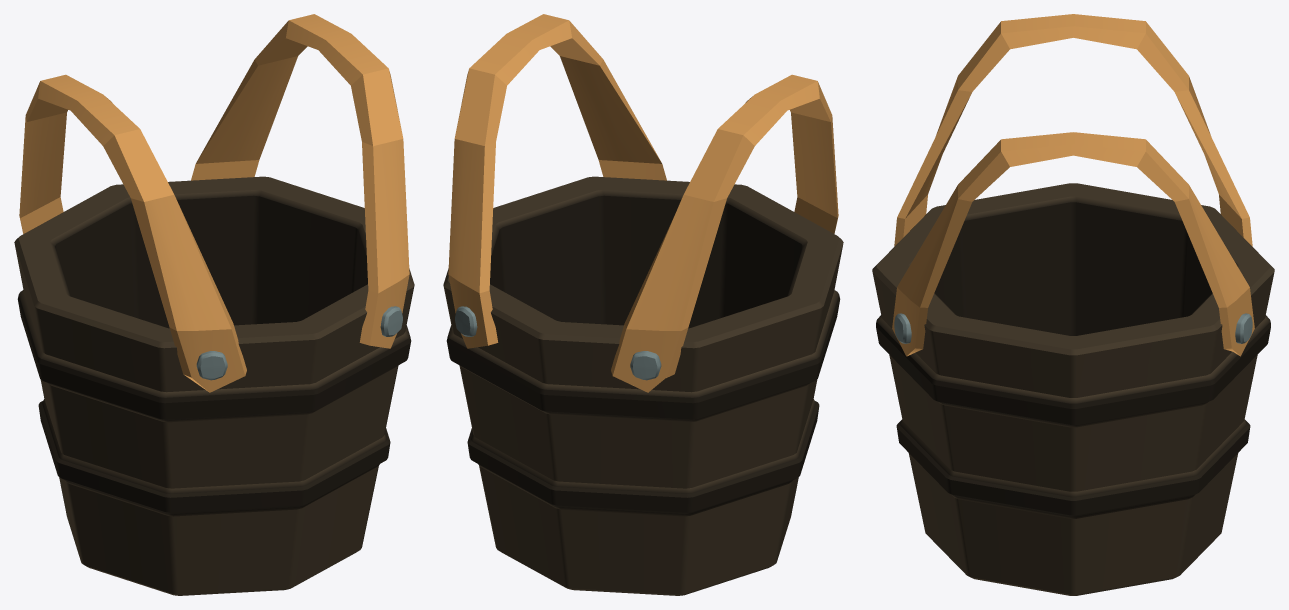
File: bucket.fbx
3 views of the same model, side by side, from view 1: azimuth 30°, elevation 25°; view 2: azimuth 150°, elevation 25°; view 3: azimuth 270°, elevation 25° (orthographic). The views are drawn at different scales.
Parts seen in each view (by area): view 1: bucket_geo; view 2: bucket_geo; view 3: bucket_geo.
Boxes of the visible parts, x1,y1,x2,y2 form: bucket_geo: (14,14,414,595); bucket_geo: (443,14,843,595); bucket_geo: (872,14,1274,595).
Size of the model in its own units: 6.39 by 8 by 6.39.
